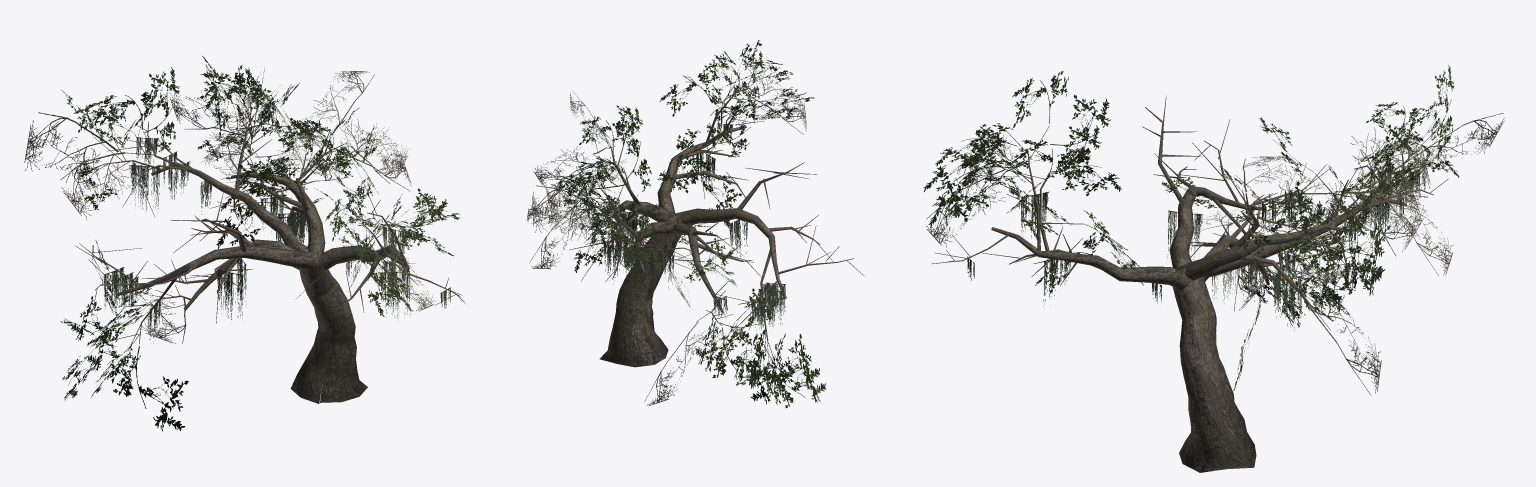
Rendered from tree_v6_decid_gothic_crooked_summer.glb.
The picture shows the model from 3 angles, left to right: view 1: azimuth 30°, elevation 25°; view 2: azimuth 150°, elevation 25°; view 3: azimuth 270°, elevation 25°; orthographic projection. The views are drawn at different scales.
Visible parts, largest first — view 1: tree_v6_decid_gothic_crooked_summer_LOD0; view 2: tree_v6_decid_gothic_crooked_summer_LOD0; view 3: tree_v6_decid_gothic_crooked_summer_LOD0.
Part boxes in pixels (left/top/right/bottom): tree_v6_decid_gothic_crooked_summer_LOD0: left=24, top=56, right=466, bottom=431; tree_v6_decid_gothic_crooked_summer_LOD0: left=527, top=40, right=864, bottom=408; tree_v6_decid_gothic_crooked_summer_LOD0: left=923, top=65, right=1504, bottom=472.
Size of what is drawn, in the model's own units: 8.01 by 8.63 by 10.86.
1 material, 1 textured.
